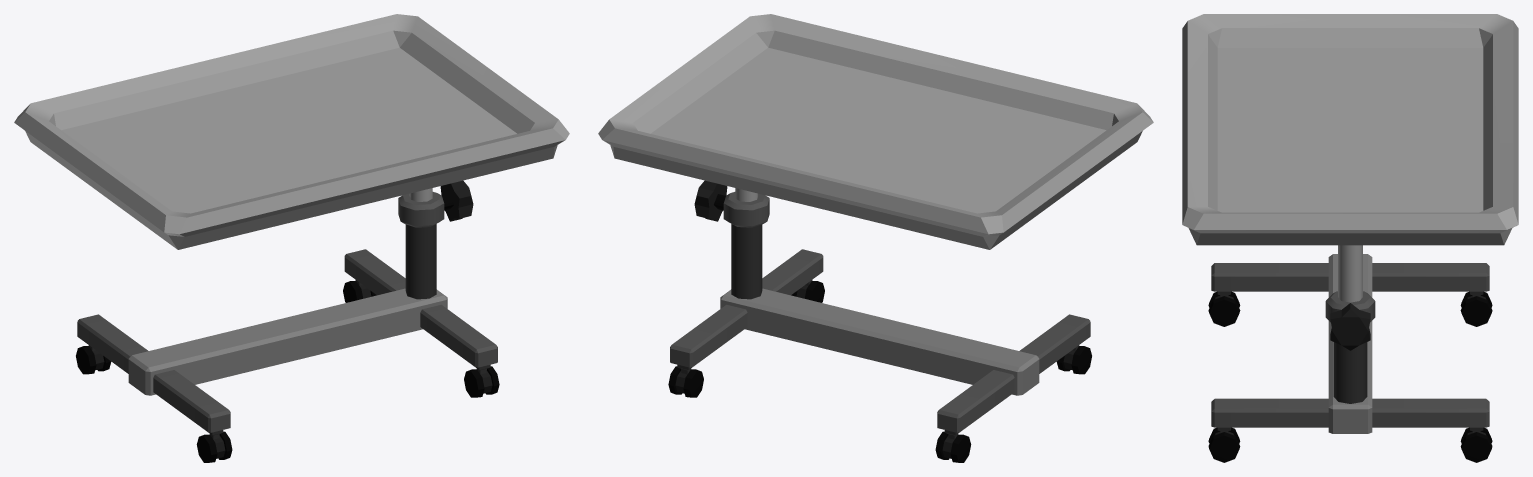
The model's file is Instrument Table 01.fbx.
3 renders of one model, left to right at view 1: azimuth 30°, elevation 25°; view 2: azimuth 150°, elevation 25°; view 3: azimuth 270°, elevation 25°, orthographic. The views are drawn at different scales.
Parts seen in each view (by area): view 1: Instrument_Table_01; view 2: Instrument_Table_01; view 3: Instrument_Table_01.
Boxes of the visible parts, <box> form: Instrument_Table_01: <box>14,14,569,462</box>; Instrument_Table_01: <box>598,14,1153,462</box>; Instrument_Table_01: <box>1182,14,1518,462</box>.
Bounding box in the file's own units: 126 × 79.3 × 86.72.
